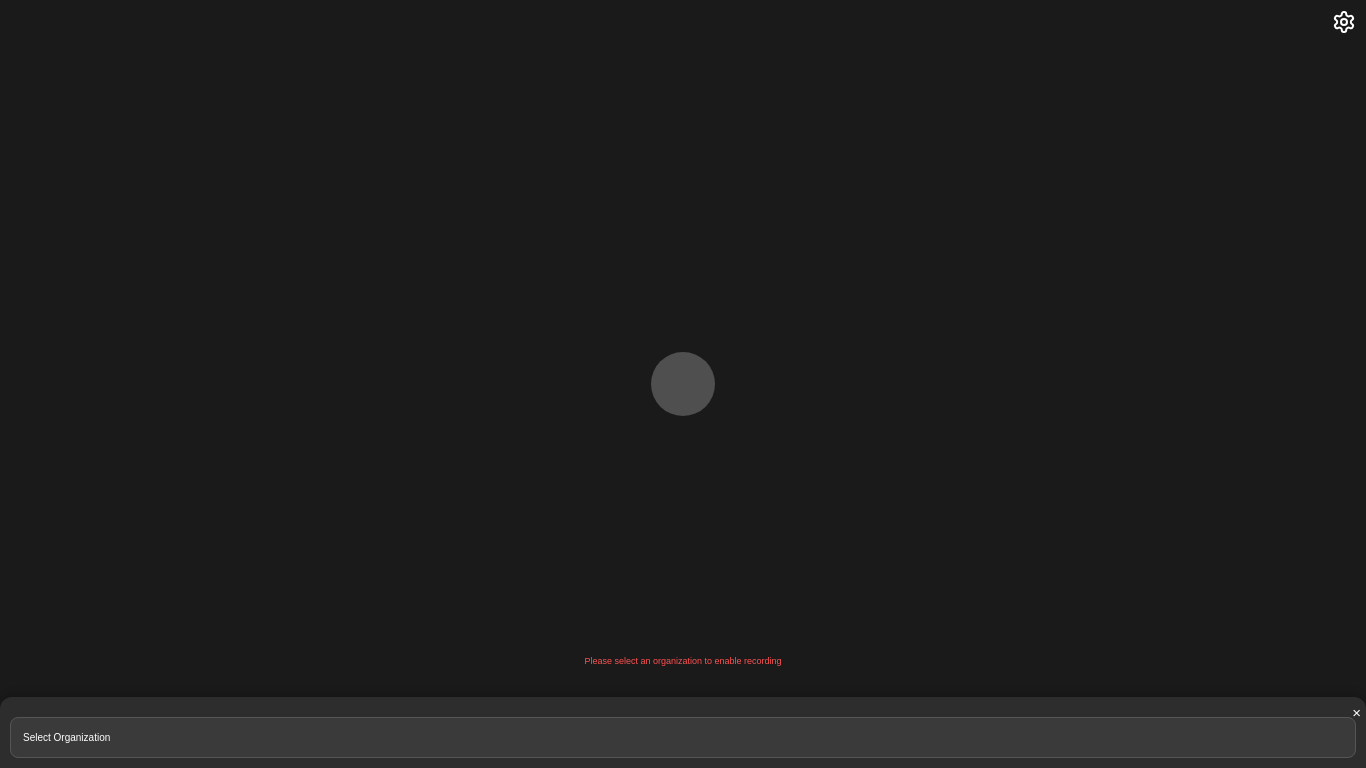
Test: AudioRecorder › shows board options when an organization is selected
# Select an organization
Select "Test Organization" in the dropdown at (683,738), box [10, 717, 1356, 758]
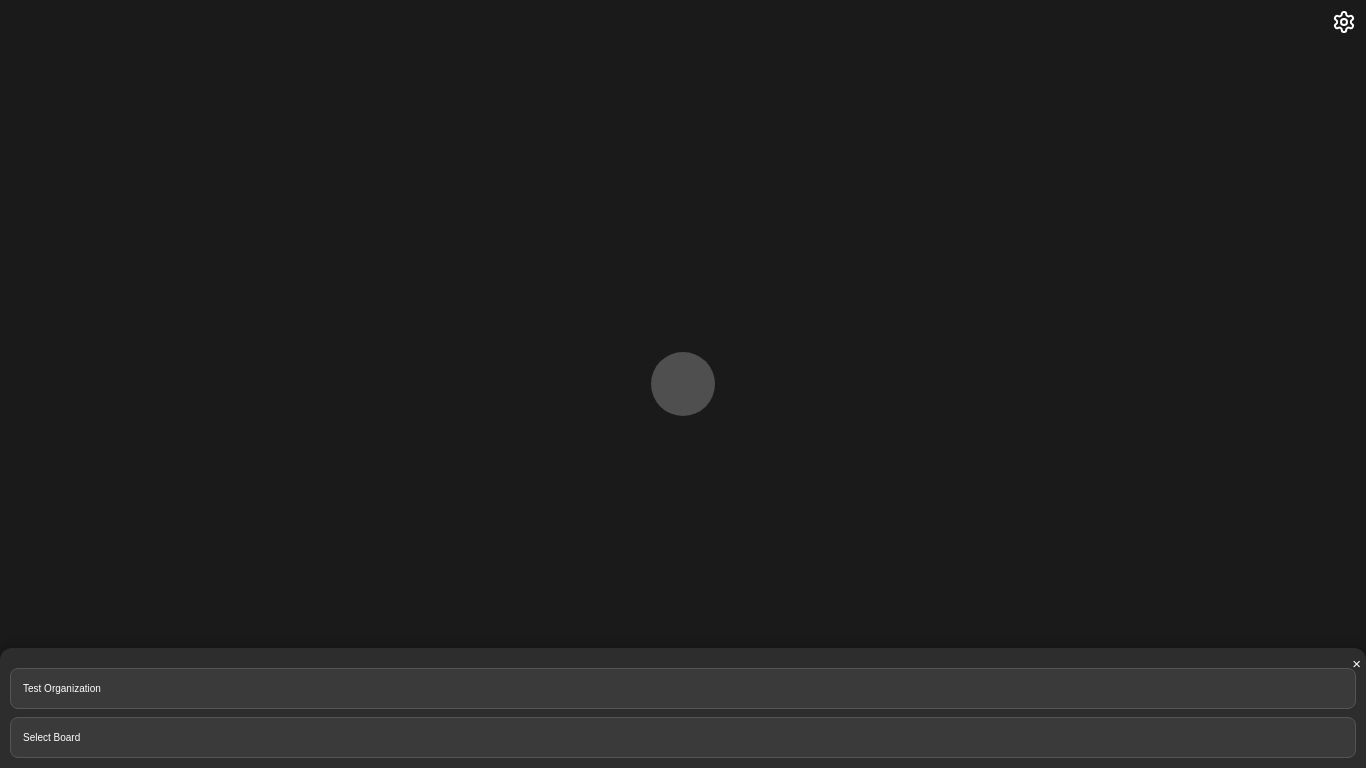
Expected: the number of dropdowns is 2, [10, 668, 1356, 709]; [10, 717, 1356, 758]
